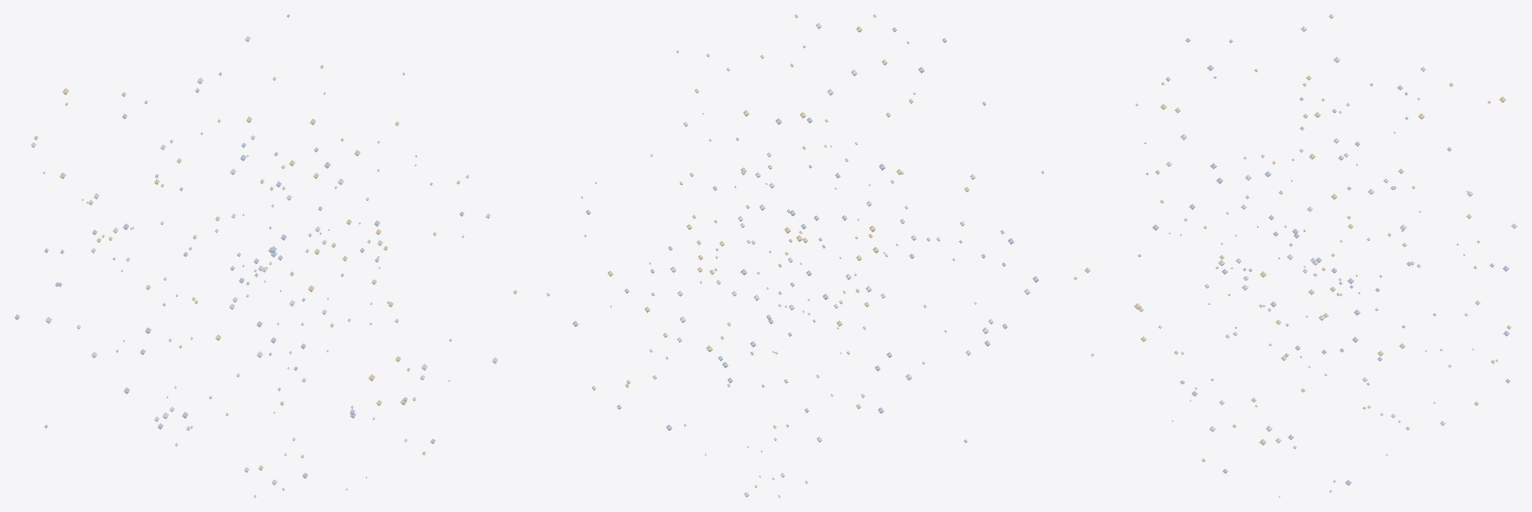
3 renders of one model, left to right at view 1: azimuth 30°, elevation 25°; view 2: azimuth 150°, elevation 25°; view 3: azimuth 270°, elevation 25°, orthographic. The views are drawn at different scales.
Size of the model in its own units: 4.95 by 5.13 by 4.63.
